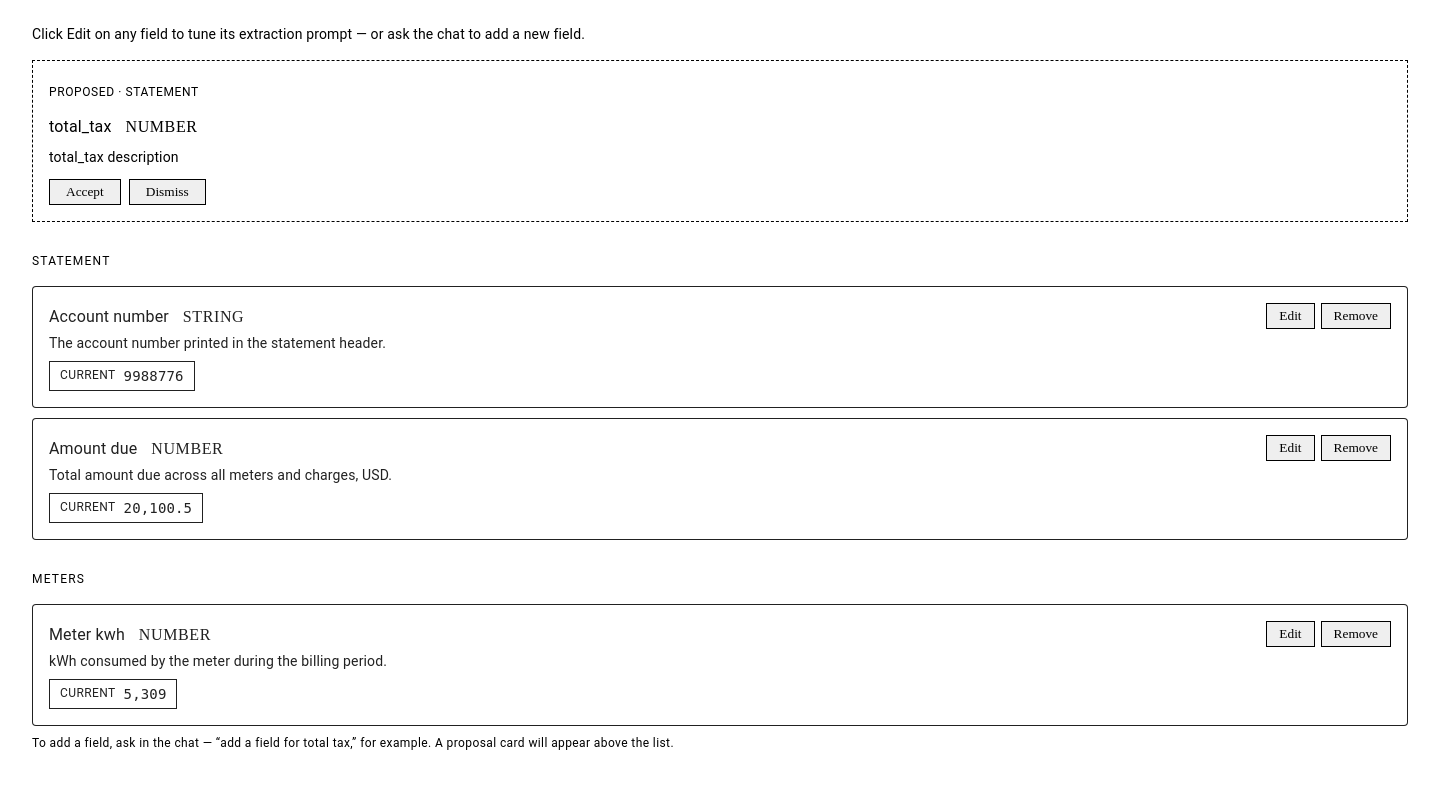
SchemaView (UI-01 Phase 1) › Dismiss on the canvas ProposalCard clears the proposal without adding the field
Click the button with test id "^schema-proposal-dismiss-": (167, 192) [129,179,206,205]
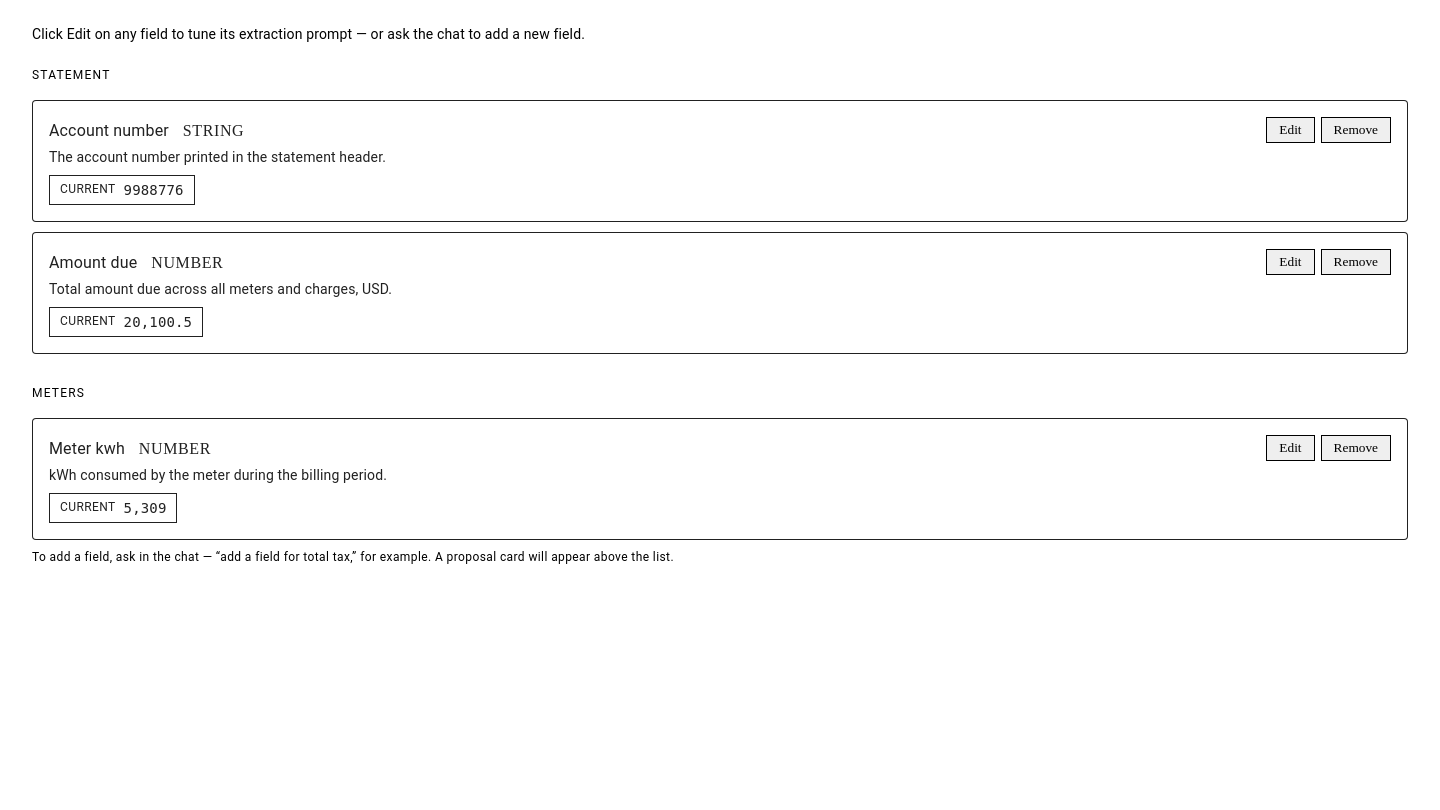
Expected: the element with test id "schema-view-proposals" is gone
Expected: the heading "total_tax" is gone
